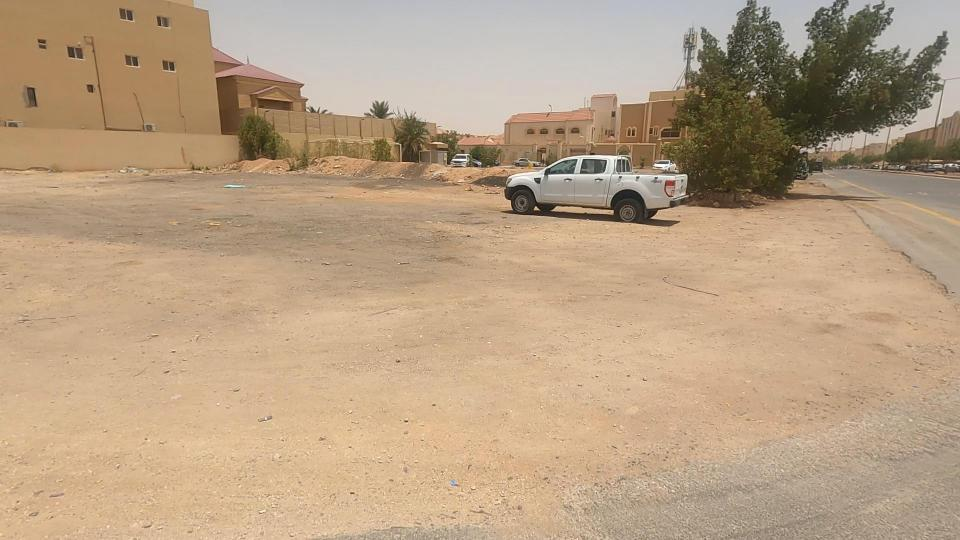GARBAGE: (190, 167, 271, 211), (86, 148, 163, 194)
